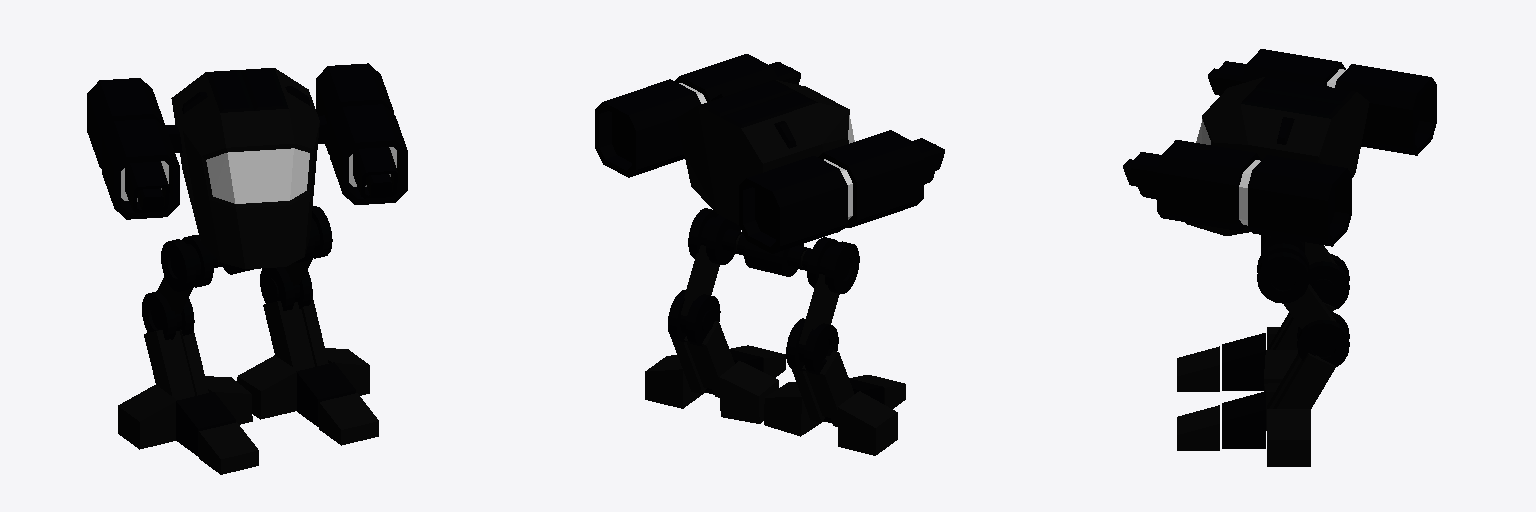
Rendered from robot.obj.
The picture shows the model from 3 angles: view 1: azimuth 30°, elevation 25°; view 2: azimuth 150°, elevation 25°; view 3: azimuth 270°, elevation 25°; orthographic projection.
Visible parts, largest first — view 1: Cube, Cube.002, Cube.006, Cube.004, Cube.007, Cube.005, Cylinder, Cylinder.001, Cube.003, Cube.008; view 2: Cube.002, Cube, Cube.006, Cylinder, Cube.004, Cylinder.001, Cube.003, Cube.007, Cube.005; view 3: Cube.002, Cube, Cube.005, Cube.006, Cylinder.001, Cube.007, Cube.004, Cylinder, Cube.003.
Part boxes in pixels (left/top/right/bottom): Cube: left=171, top=68, right=319, bottom=268; Cube.002: left=87, top=63, right=407, bottom=219; Cube.006: left=118, top=348, right=369, bottom=449; Cube.004: left=144, top=296, right=328, bottom=399; Cube.007: left=199, top=393, right=378, bottom=474; Cube.005: left=176, top=362, right=355, bottom=456; Cylinder: left=161, top=206, right=332, bottom=291; Cylinder.001: left=142, top=267, right=312, bottom=339; Cube.003: left=157, top=252, right=314, bottom=314; Cube.008: left=165, top=115, right=327, bottom=152; Cube.002: left=595, top=54, right=944, bottom=253; Cube: left=676, top=80, right=854, bottom=232; Cube.006: left=645, top=355, right=897, bottom=455; Cylinder: left=688, top=208, right=859, bottom=293; Cube.004: left=671, top=321, right=854, bottom=426; Cylinder.001: left=668, top=290, right=838, bottom=374; Cube.003: left=681, top=245, right=839, bottom=344; Cube.007: left=731, top=345, right=905, bottom=408; Cube.005: left=705, top=349, right=883, bottom=422; Cube.002: left=1123, top=49, right=1436, bottom=246; Cube: left=1185, top=77, right=1369, bottom=235; Cube.005: left=1222, top=333, right=1265, bottom=448; Cube.006: left=1264, top=327, right=1310, bottom=466; Cylinder.001: left=1297, top=254, right=1349, bottom=366; Cube.007: left=1177, top=346, right=1219, bottom=450; Cube.004: left=1267, top=302, right=1335, bottom=408; Cylinder: left=1257, top=235, right=1308, bottom=303; Cube.003: left=1284, top=242, right=1336, bottom=328.
Size of the model in its own units: 4.95 by 5.09 by 4.52.